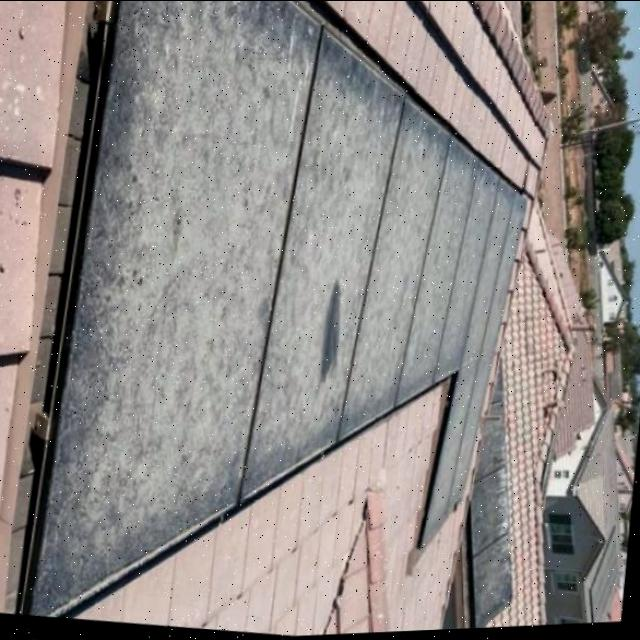Anomaly Solar Panel: (36, 0, 327, 618), (240, 28, 408, 513), (339, 103, 454, 448), (397, 140, 483, 413), (436, 166, 502, 388), (422, 363, 482, 556), (461, 184, 519, 372), (483, 197, 530, 361), (449, 356, 497, 516)
Surface Contaminant: (37, 0, 327, 618), (241, 32, 412, 513), (339, 109, 454, 445), (396, 139, 484, 415), (439, 166, 507, 386), (421, 363, 481, 557), (461, 186, 520, 378), (448, 356, 497, 519), (485, 199, 531, 361)
